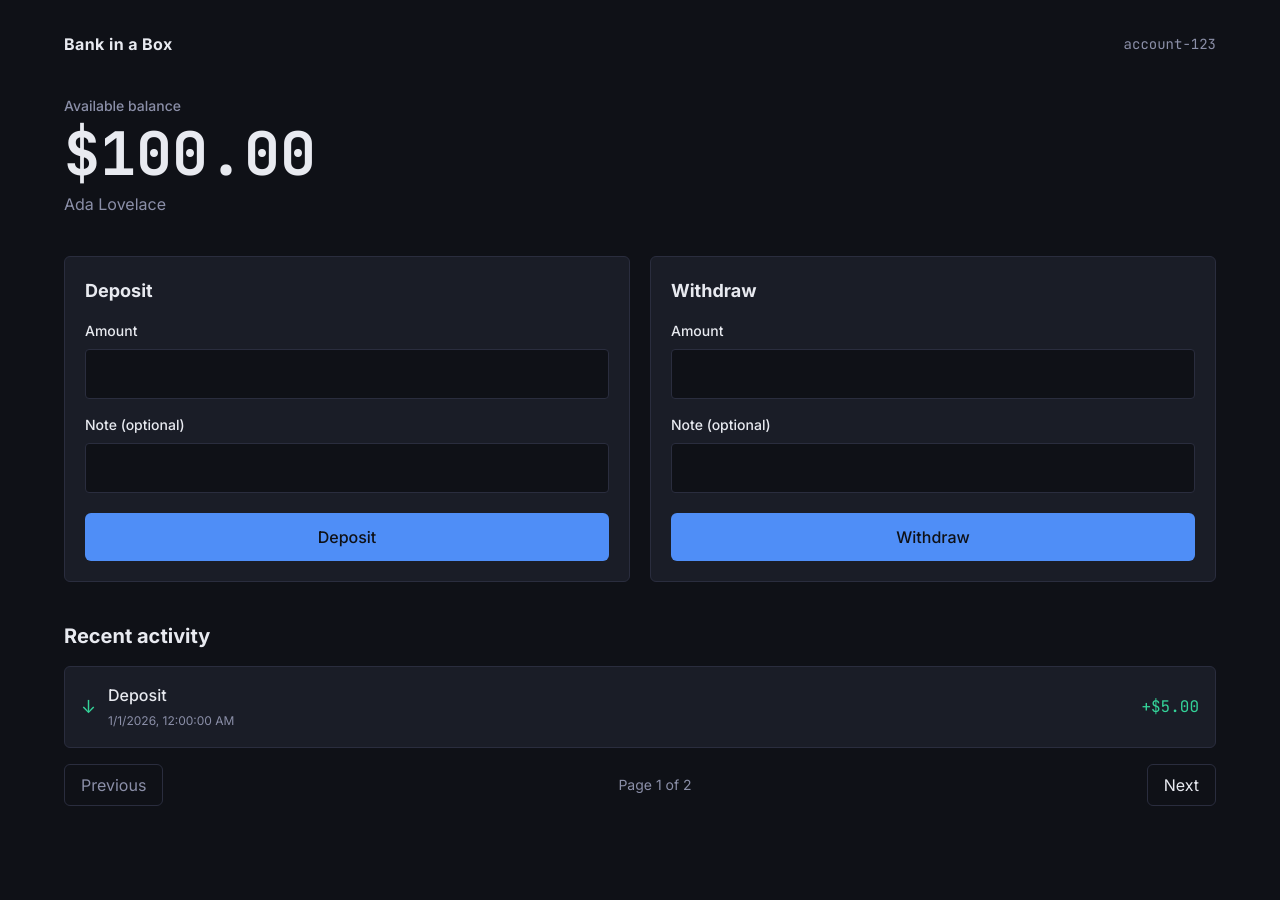
Test: AccountDashboard › offers a route back when a later history page is empty
Expected: the text "+$5.00" is shown, [1141, 695, 1199, 719]
Click the button "Next" at (1181, 785), box [1147, 764, 1216, 806]
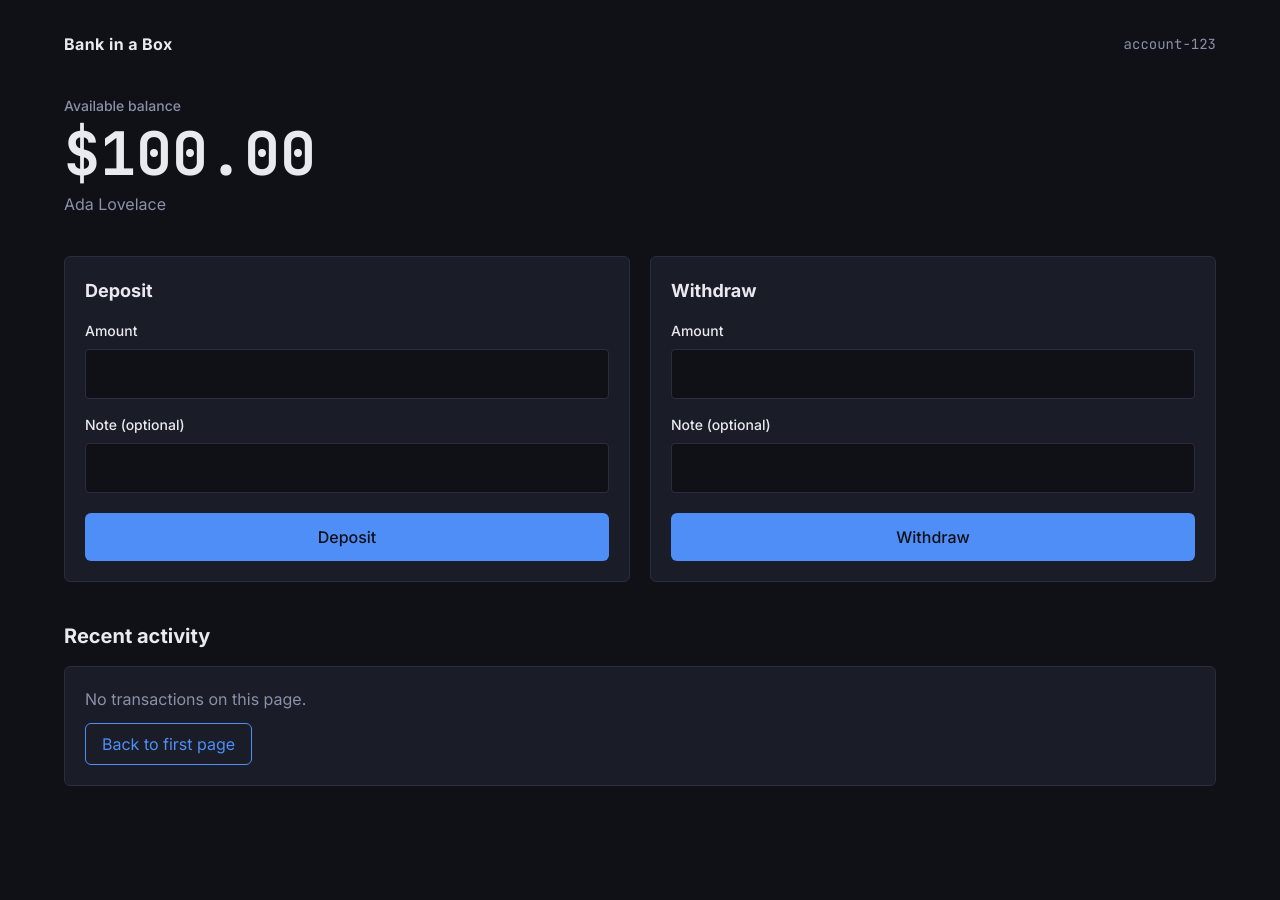
Result: the text "No transactions on this page." is shown at [85, 689, 306, 709]
Click the button "Back to first page" at (169, 744), box [85, 723, 252, 765]
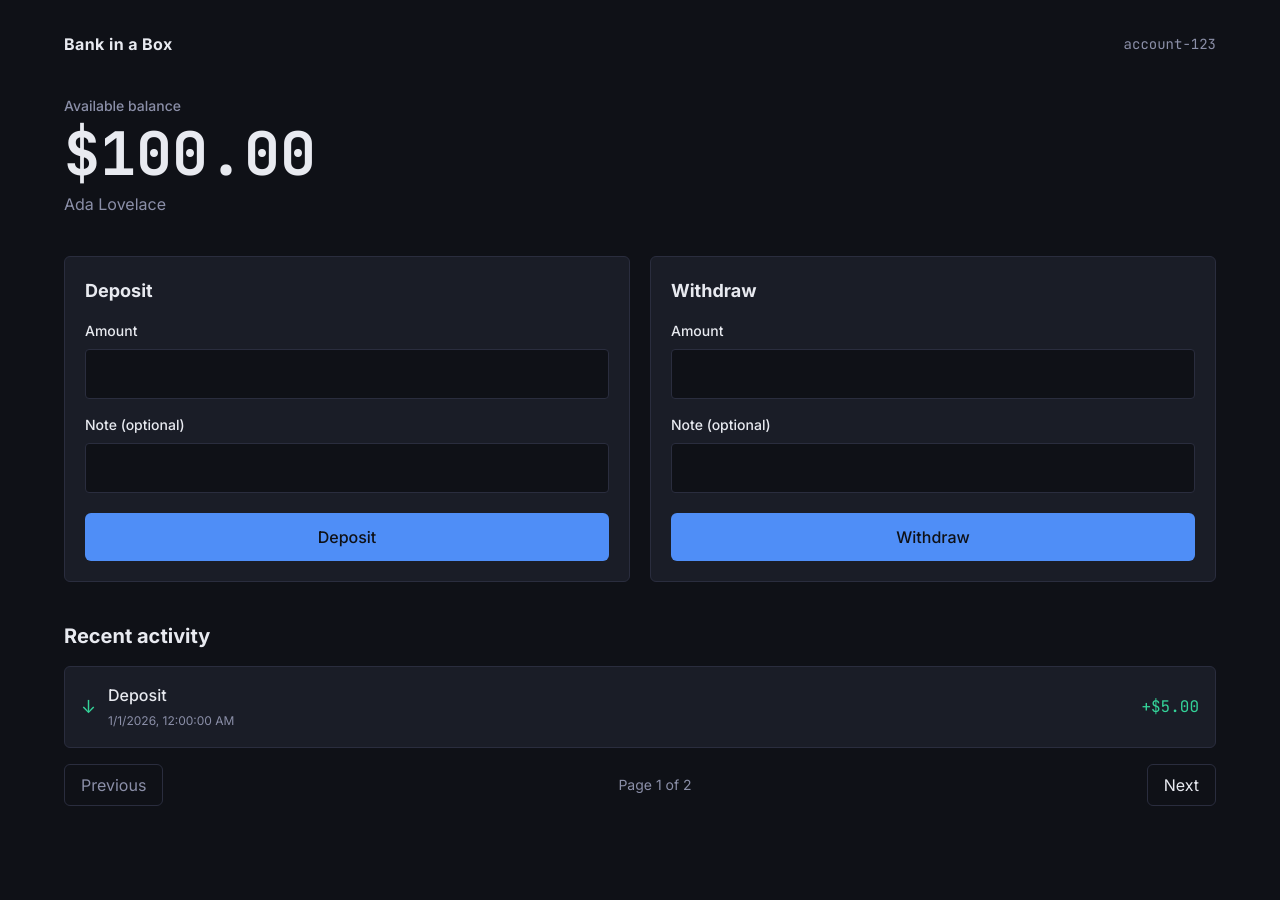
Result: the text "Page 1 of 2" is shown at [618, 775, 692, 795]
